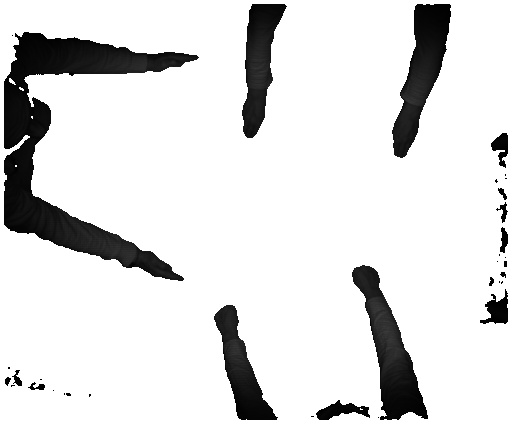fist: (210, 304, 239, 336), (352, 264, 383, 290)
hand: (392, 111, 427, 159), (240, 95, 271, 143)
spine: (139, 240, 183, 287), (146, 48, 199, 79)
